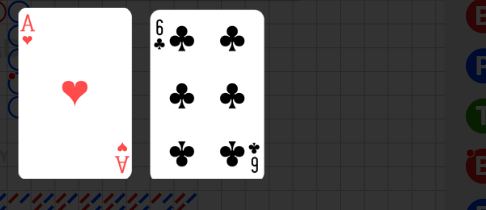6C: (247, 140, 261, 175)
AH: (113, 140, 129, 175)
